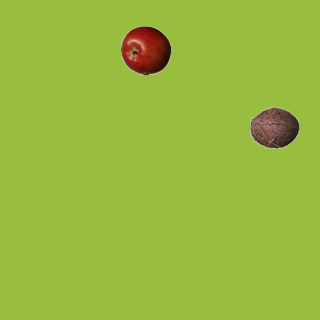Apple Braeburn: (120, 25, 170, 75)
Cocos: (249, 102, 299, 152)
